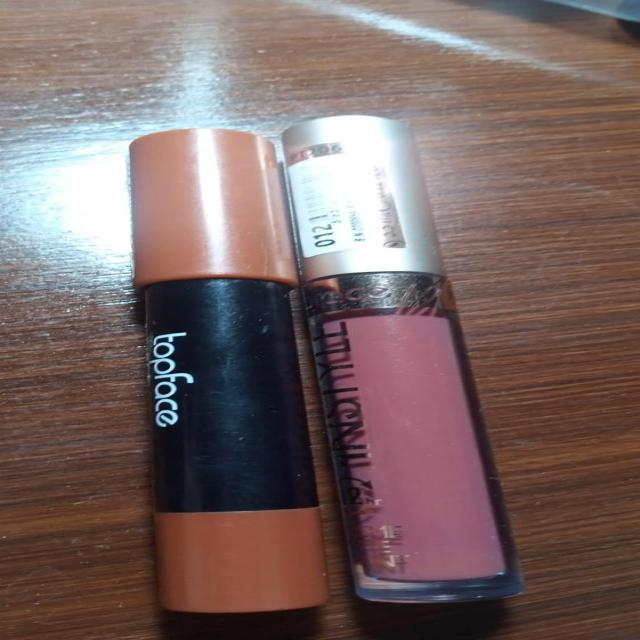lip gloss: (283, 112, 545, 617)
lip liner: (58, 119, 352, 635)
